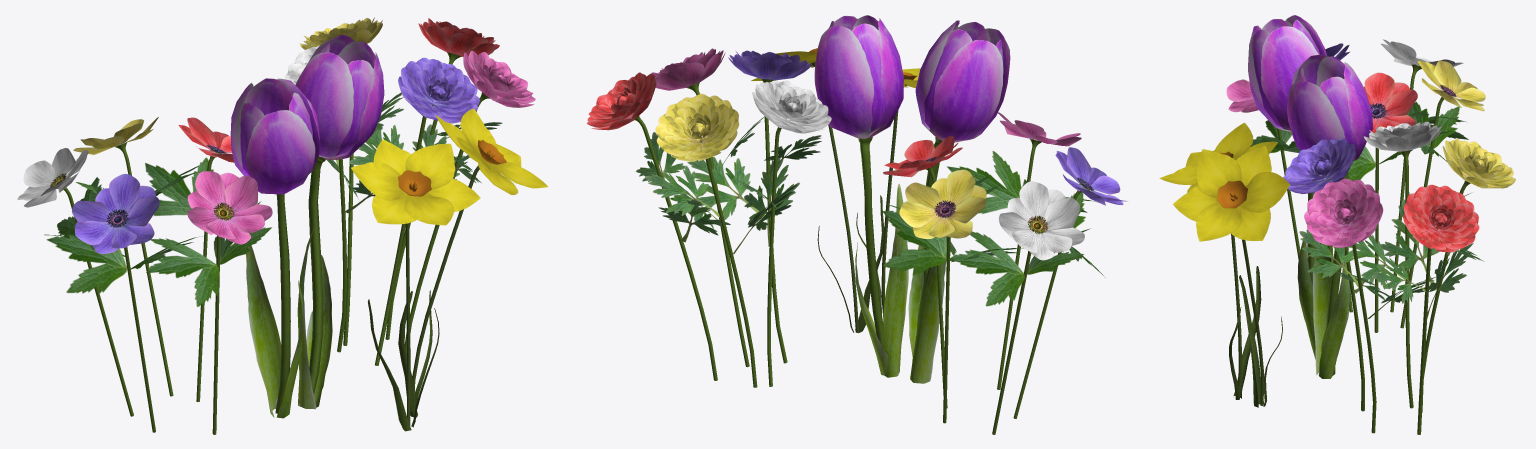
File: low_poly_flowers_pack_game_ready.glb
3 renders of one model, left to right at view 1: azimuth 30°, elevation 25°; view 2: azimuth 150°, elevation 25°; view 3: azimuth 270°, elevation 25°, orthographic. The views are drawn at different scales.
Visible parts, largest first — view 1: Cylinder.002, Cylinder.001, Cylinder.003, Cylinder.009, Cylinder.010, Cylinder.004, Cylinder, Cylinder.005, Cylinder.013, Cylinder.011, Cylinder.006, Cylinder.007 (+2 smaller); view 2: Cylinder.001, Cylinder.002, Cylinder.013, Cylinder.007, Cylinder.012, Cylinder.008, Cylinder.006, Cylinder, Cylinder.010, Cylinder.009, Cylinder.005, Cylinder.011 (+2 smaller); view 3: Cylinder.001, Cylinder.004, Cylinder.002, Cylinder.006, Cylinder.005, Cylinder.007, Cylinder, Cylinder.008, Cylinder.011, Cylinder.003, Cylinder.012, Cylinder.010 (+1 smaller).
Boxes of the visible parts, <box> form: Cylinder.002: <box>230,78,319,418</box>; Cylinder.001: <box>295,34,384,409</box>; Cylinder.003: <box>351,139,480,431</box>; Cylinder.009: <box>46,174,204,432</box>; Cylinder.010: <box>146,171,272,434</box>; Cylinder.004: <box>398,108,547,417</box>; Cylinder: <box>358,57,479,365</box>; Cylinder.005: <box>404,51,535,353</box>; Cylinder.013: <box>17,148,133,416</box>; Cylinder.011: <box>145,117,234,401</box>; Cylinder.006: <box>349,18,502,339</box>; Cylinder.007: <box>300,17,403,345</box>; Cylinder.001: <box>814,15,908,377</box>; Cylinder.002: <box>908,20,1010,383</box>; Cylinder.013: <box>948,181,1090,434</box>; Cylinder.007: <box>645,93,798,387</box>; Cylinder.012: <box>882,169,1023,423</box>; Cylinder.008: <box>731,80,831,386</box>; Cylinder.006: <box>587,72,730,380</box>; Cylinder: <box>687,50,821,363</box>; Cylinder.010: <box>947,112,1095,389</box>; Cylinder.009: <box>1013,147,1127,418</box>; Cylinder.005: <box>652,48,764,367</box>; Cylinder.011: <box>883,136,998,408</box>; Cylinder.001: <box>1287,54,1373,378</box>; Cylinder.004: <box>1173,146,1289,407</box>; Cylinder.002: <box>1248,15,1333,359</box>; Cylinder.006: <box>1371,184,1479,434</box>; Cylinder.005: <box>1299,178,1435,433</box>; Cylinder.007: <box>1380,138,1515,412</box>; Cylinder: <box>1283,138,1395,411</box>; Cylinder.008: <box>1348,121,1470,408</box>; Cylinder.011: <box>1348,72,1450,332</box>; Cylinder.003: <box>1159,122,1277,399</box>; Cylinder.012: <box>1400,60,1485,328</box>; Cylinder.010: <box>1226,79,1300,259</box>.
Size of the model in its own units: 31.8 by 21.49 by 21.22.
Materials: 8 (8 with a texture image).
